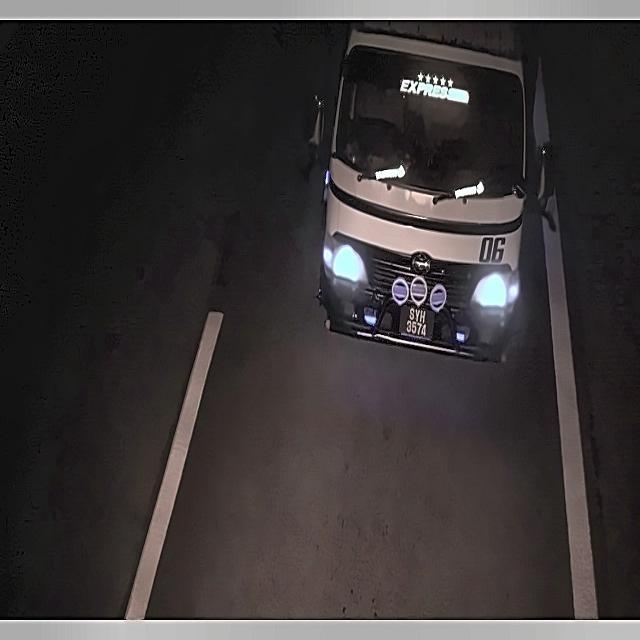car: (396, 302, 436, 343)
